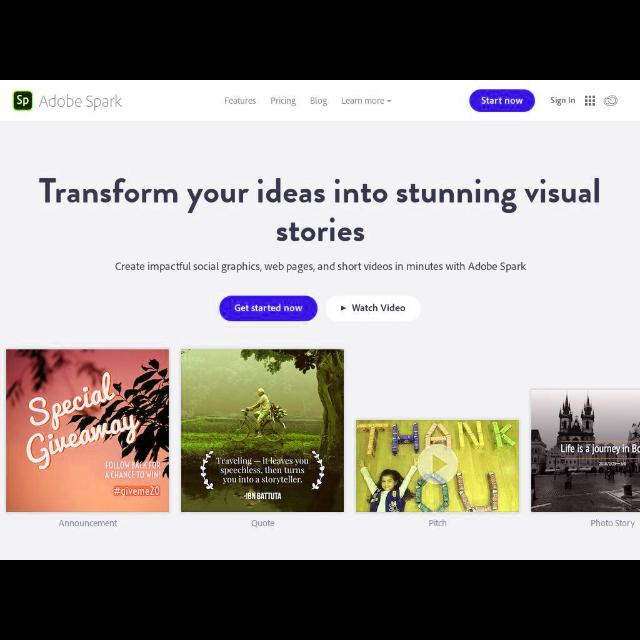icon: (603, 94, 619, 106), (584, 94, 596, 108), (340, 304, 348, 312), (386, 98, 392, 104)
image: (7, 350, 169, 512), (182, 350, 344, 512), (356, 421, 518, 512), (531, 390, 639, 512), (12, 88, 122, 112)
multitab: (214, 80, 398, 121)
spinner: (341, 96, 393, 106)
text: (37, 175, 605, 243), (114, 260, 526, 274), (59, 519, 118, 527), (591, 519, 635, 529), (352, 304, 406, 312), (342, 96, 384, 105), (271, 96, 297, 108), (225, 96, 257, 105), (550, 95, 576, 106), (310, 96, 328, 108), (251, 520, 275, 528), (429, 519, 447, 527)
textbutton: (219, 296, 319, 322), (324, 296, 422, 322), (470, 89, 536, 113)
